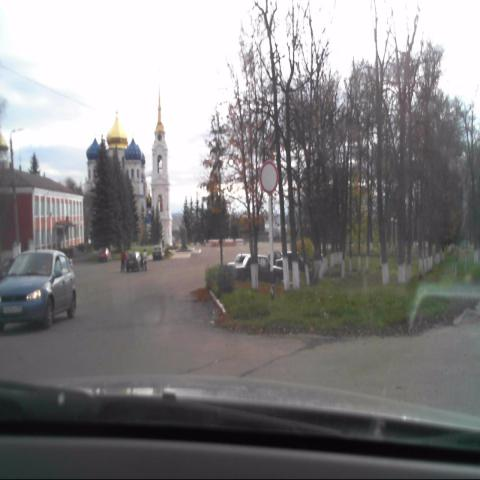3_2: (258, 161, 278, 194)
